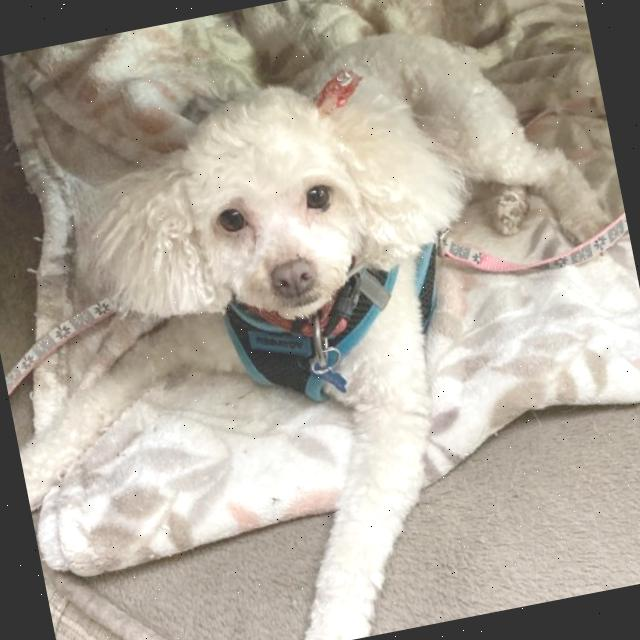Poodle_dog: (41, 39, 492, 366)
